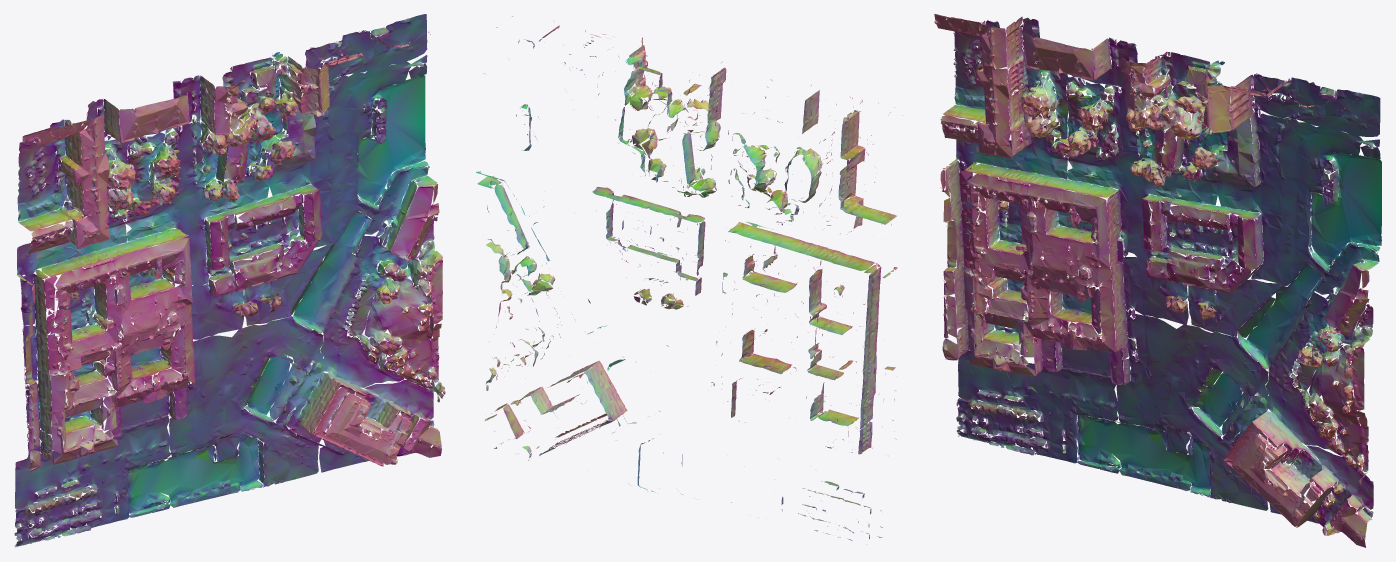
The picture shows the model from 3 angles, left to right: view 1: azimuth 30°, elevation 25°; view 2: azimuth 150°, elevation 25°; view 3: azimuth 330°, elevation 25°; orthographic projection. The views are drawn at different scales.
Visible parts, largest first — view 1: world; view 2: world; view 3: world.
Part boxes in pixels (bbox=[...]): world: bbox=[14, 14, 445, 547]; world: bbox=[476, 16, 897, 544]; world: bbox=[934, 14, 1381, 547].
Bounding box in the file's own units: 1.82 × 1.82 × 0.2642.
